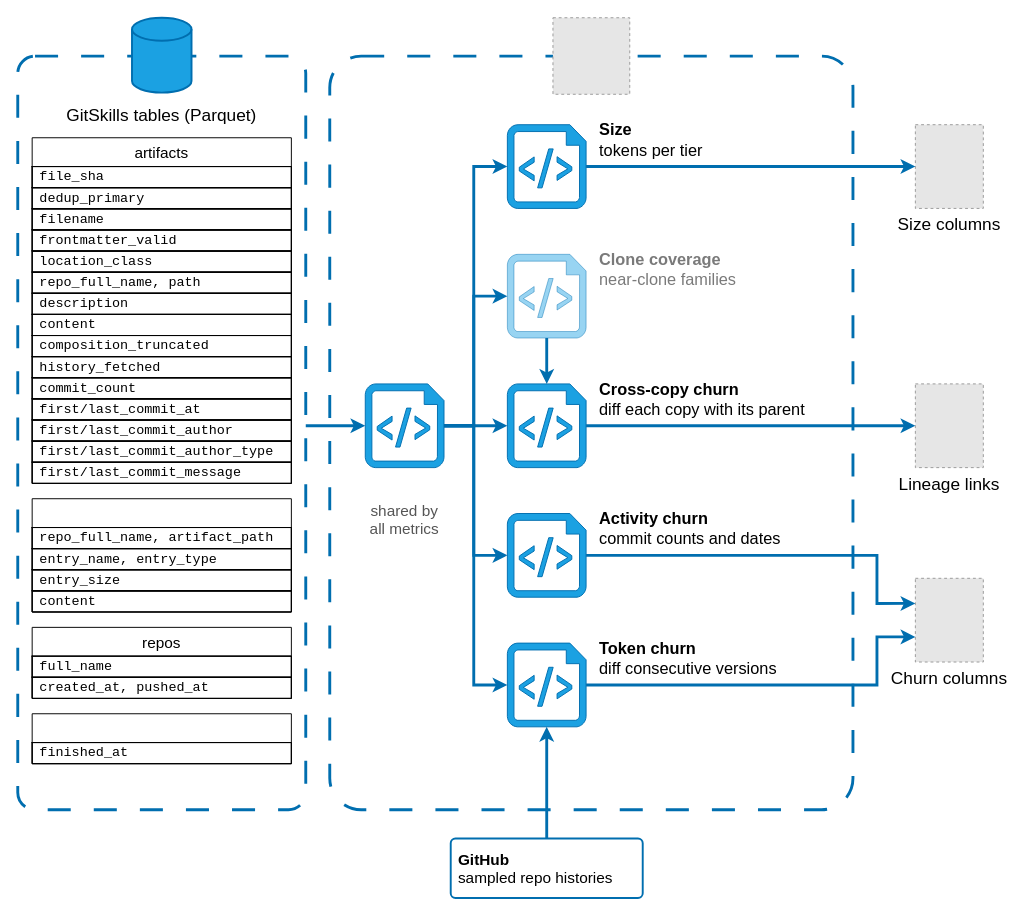
This 1024x915 diagram has some shape labels left out. Grey dashed boxes stand in for pictures. Each missing label, with the box of its shape:
artifact_siblings: (31, 498, 291, 612)
mining_runs: (31, 713, 291, 764)
Pre-processing: (364, 383, 444, 468)
